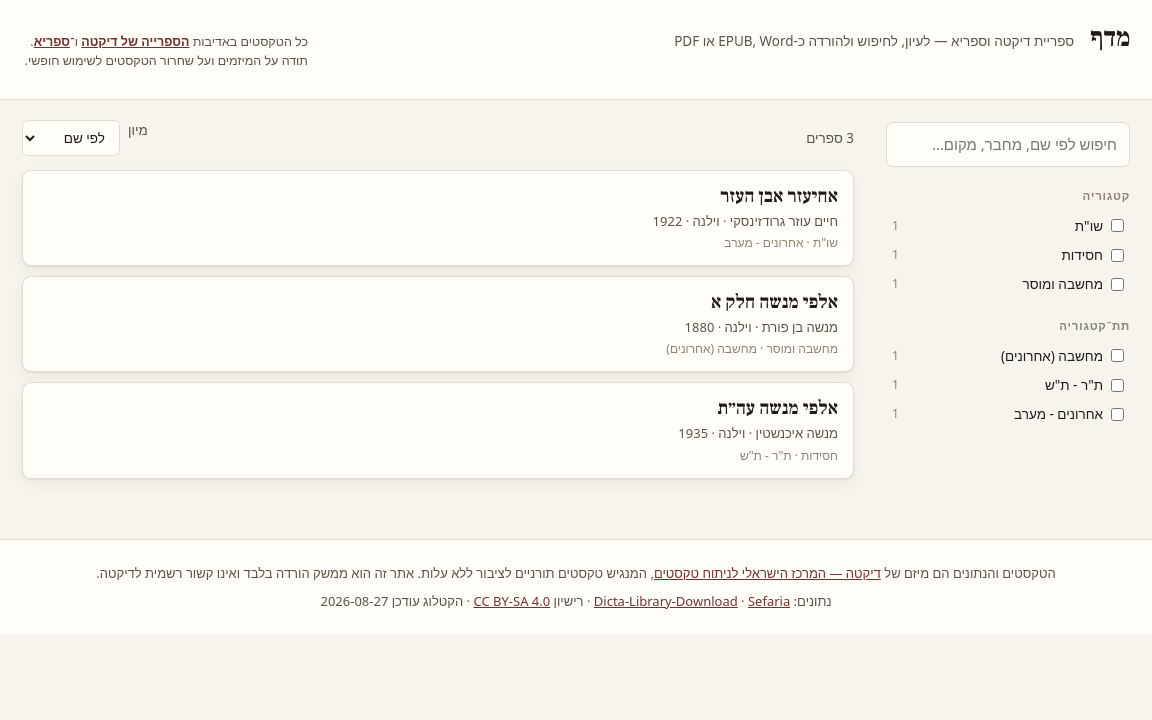
Test case: filtering › filters by category
This screenshot has width=1152, height=720.
Expected: the text "אלפי מנשה חלק א" is shown, [711,290,838,314]
Click the checkbox labelled "חסידות 1". click: coordinates (1118, 255)
box: [1111,249,1124,262]
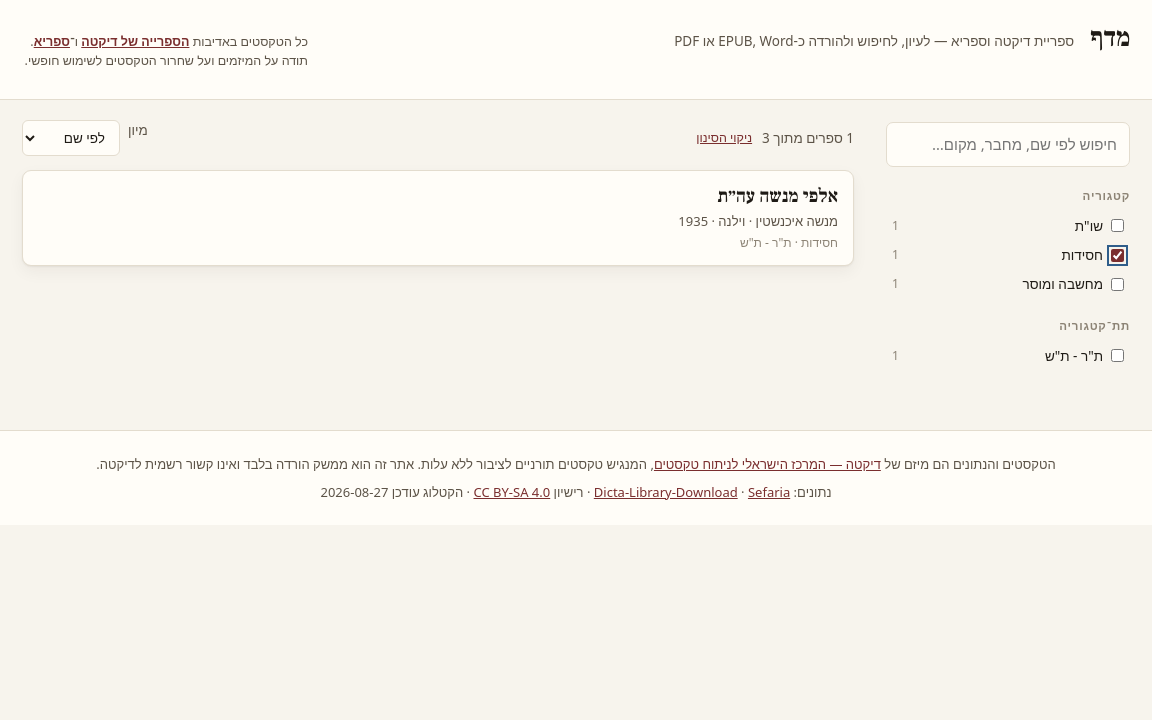
Expected: the text "אלפי מנשה עה״ת" is shown, [717,184,838,208]
Expected: the text "1 ספרים מתוך 3" is shown, [762,128,854,148]
